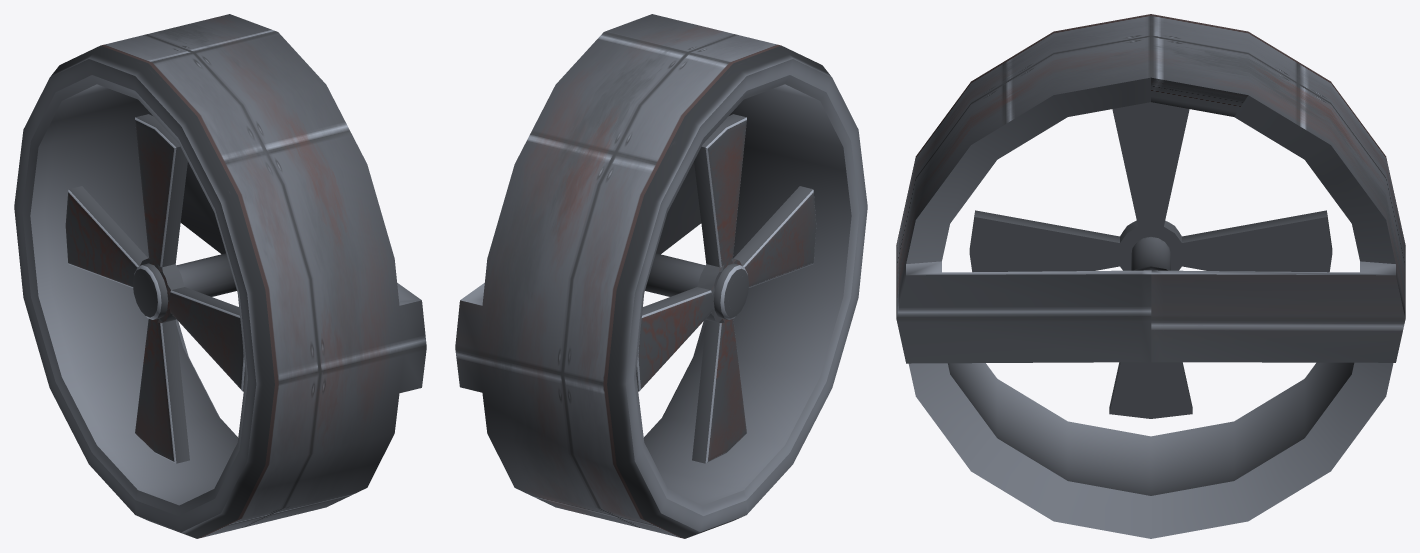
The model's file is Vent.fbx.
3 renders of one model, left to right at view 1: azimuth 30°, elevation 25°; view 2: azimuth 150°, elevation 25°; view 3: azimuth 270°, elevation 25°, orthographic.
Parts seen in each view (by area): view 1: Cylinder.006, Cylinder.001; view 2: Cylinder.006, Cylinder.001; view 3: Cylinder.006, Cylinder.001.
Part boxes in pixels (x1,y1,x2,y2): Cylinder.006: (14,14,426,538); Cylinder.001: (65,114,245,463); Cylinder.006: (455,14,867,538); Cylinder.001: (636,114,816,463); Cylinder.006: (896,14,1405,538); Cylinder.001: (969,102,1332,418).
Bounding box in the file's own units: 81.76 × 216 × 216.
